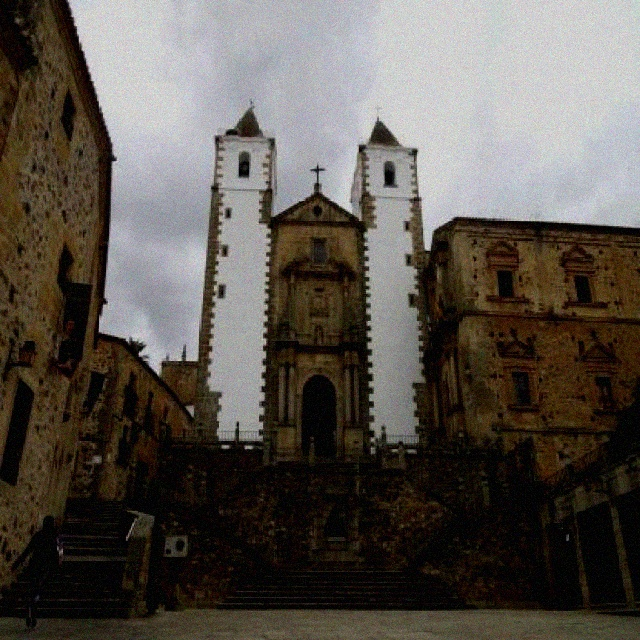stair: (0, 494, 148, 621), (215, 563, 477, 617), (186, 503, 274, 566), (402, 508, 490, 569)
